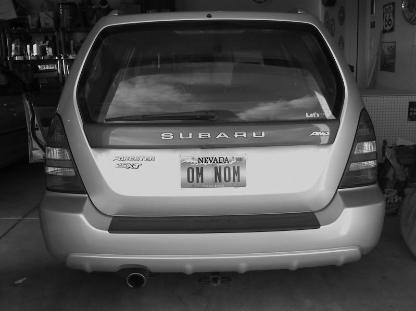license plate: (174, 151, 249, 196)
